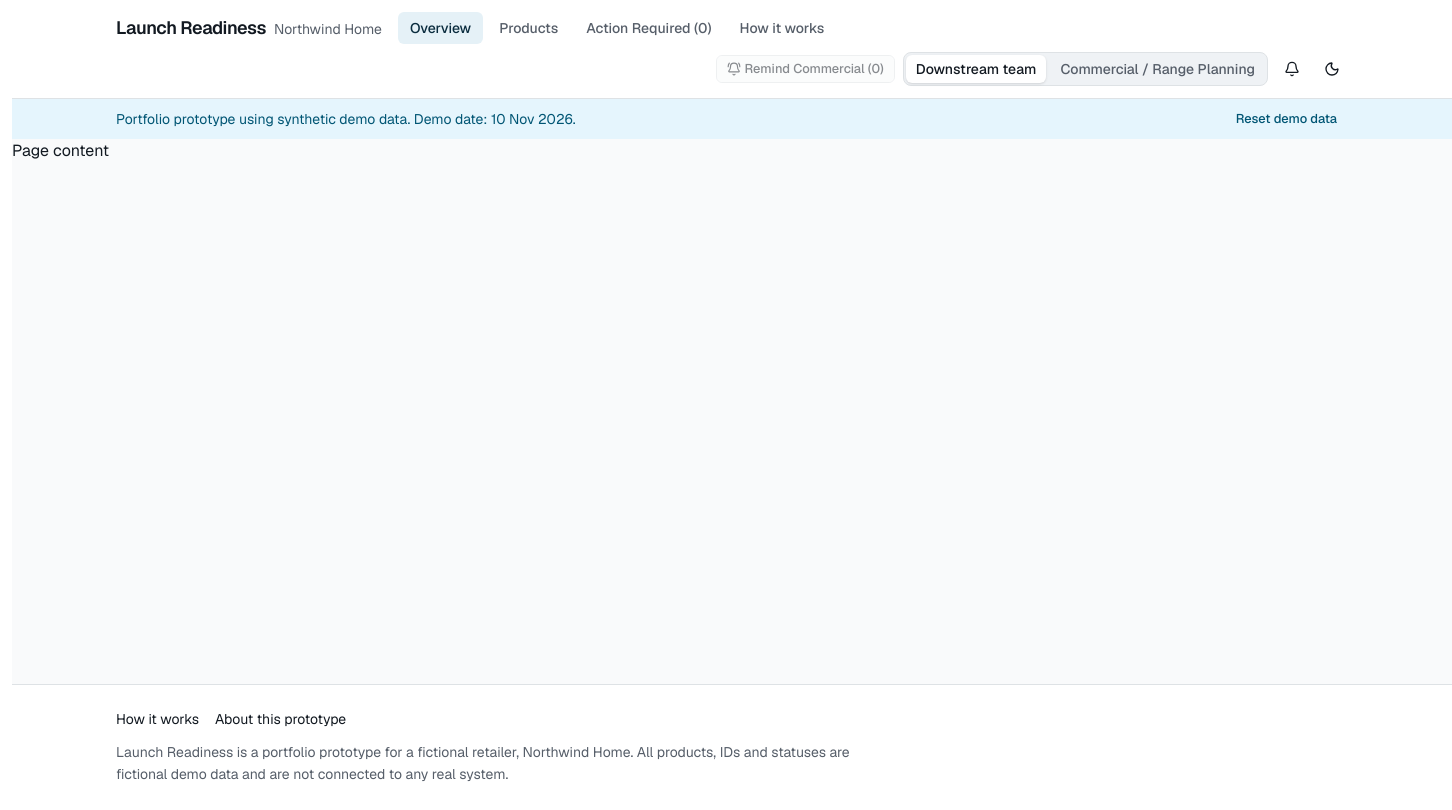
Test: AppShell › viewing as › switches the role when the other one is chosen
Click the button "Commercial / Range Planning".
click(1158, 69)  # box [1050,55,1265,83]
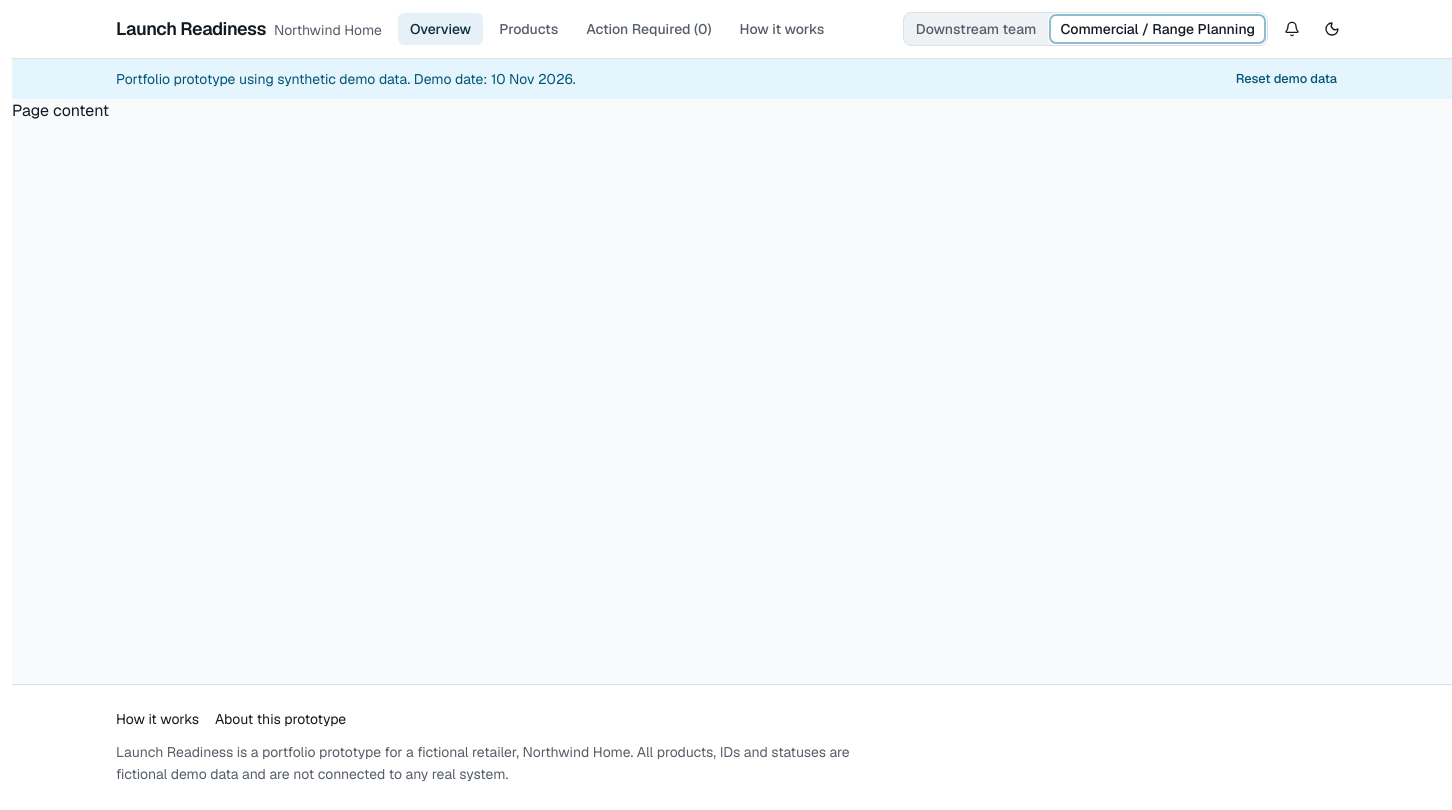
Check: the button "Commercial / Range Planning" is pressed, box [1050,15,1265,43]
